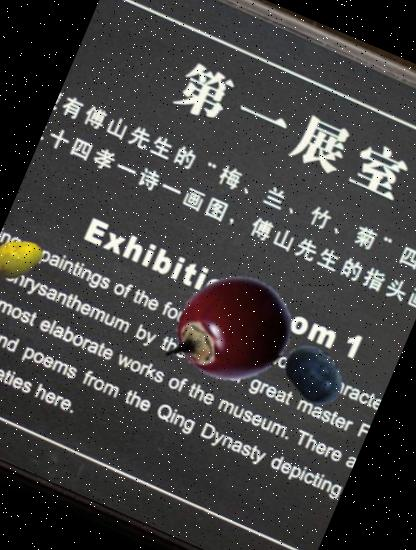Blueberry: (271, 331, 358, 418)
Pear: (0, 224, 53, 295)
Tamarillo: (148, 250, 311, 414)
